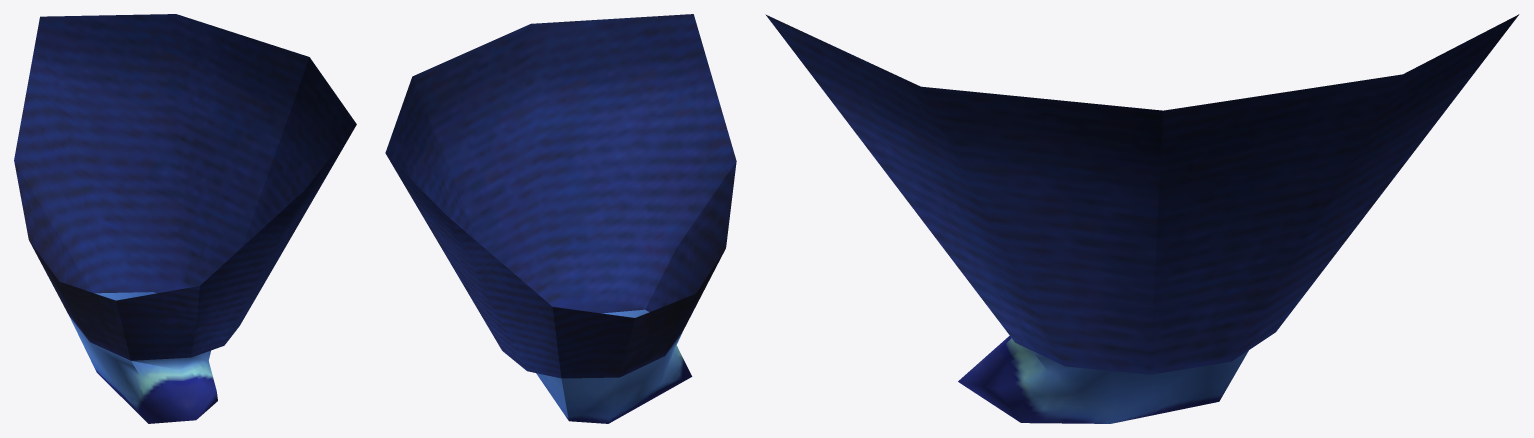
File: PiernaIzq_T.obj
3 renders of one model, left to right at view 1: azimuth 30°, elevation 25°; view 2: azimuth 150°, elevation 25°; view 3: azimuth 270°, elevation 25°, orthographic. The views are drawn at different scales.
Visible parts, largest first — view 1: PiernaIzq_T; view 2: PiernaIzq_T; view 3: PiernaIzq_T.
Boxes of the visible parts, <box> form: PiernaIzq_T: <box>14,14,356,423</box>; PiernaIzq_T: <box>385,14,736,423</box>; PiernaIzq_T: <box>765,14,1519,423</box>.
Size of the model in its own units: 5.55 by 5.6 by 9.23.
